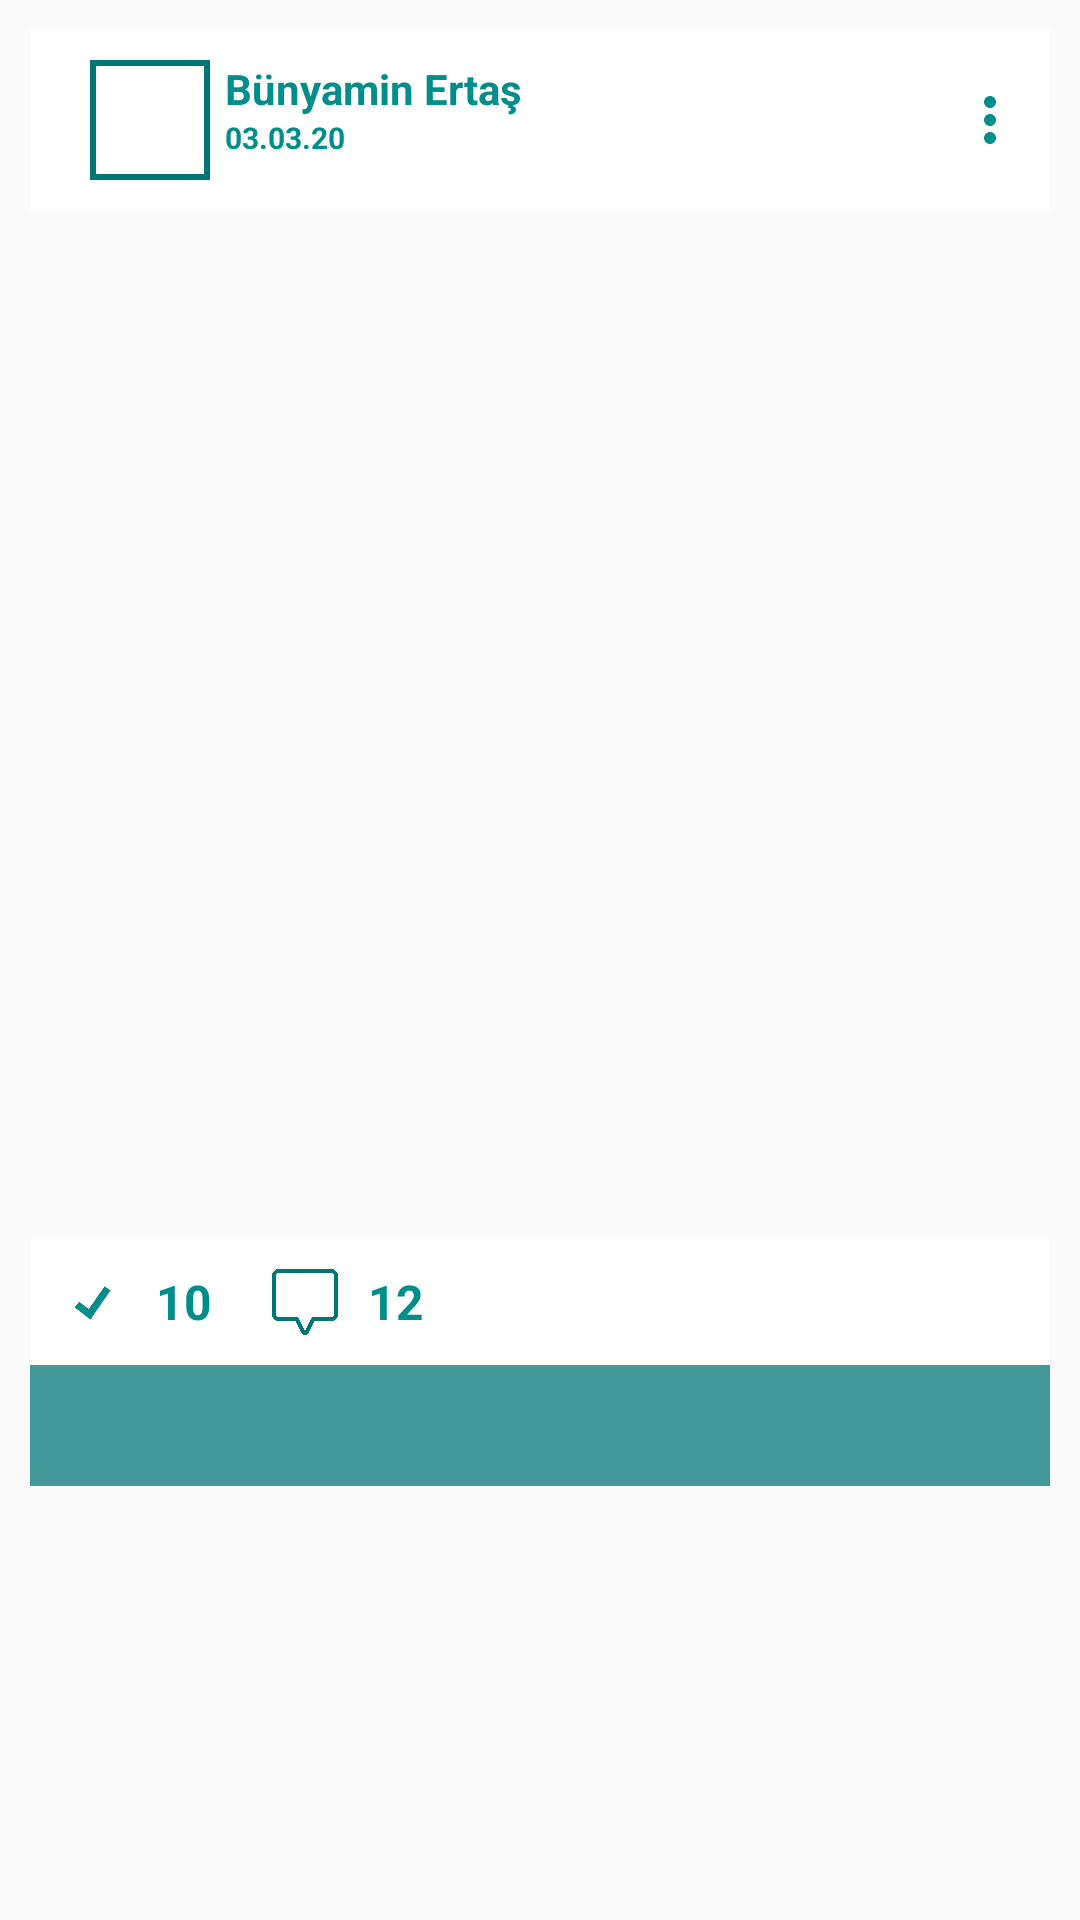

Screen size 1080 × 1920. Icon name, then its center in pixels as point (x, y):
more vert: point (990, 120)
yorum: point (305, 1302)
